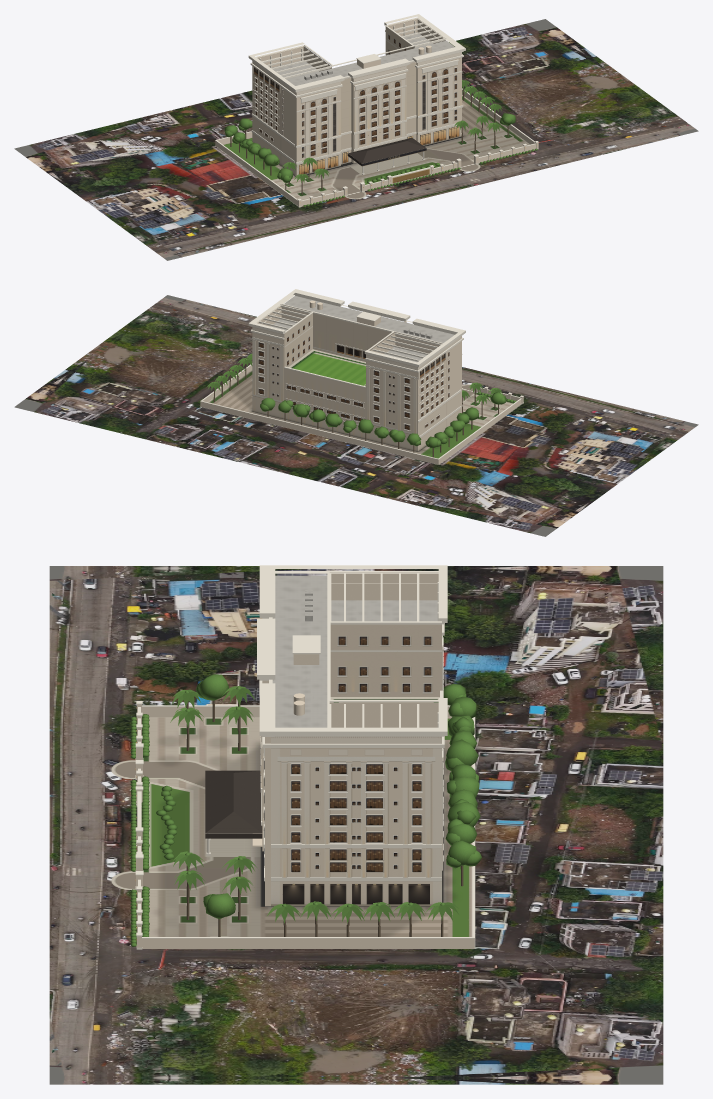
File: celestia-hall.glb
The picture shows the model from 3 angles, top to bottom: view 1: azimuth 30°, elevation 25°; view 2: azimuth 150°, elevation 25°; view 3: azimuth 270°, elevation 25°; orthographic projection. The views are drawn at different scales.
Parts seen in each view (by area): view 1: ground, front, trim, plain, west, foliage, roof, metal, trunk, court; view 2: ground, back, hall, trim, plain, foliage, west, roof, terrace, court, trunk; view 3: ground, east, trim, foliage, plain, roof, court, metal, trunk.
Part boxes in pixels (bbox=[...]): ground: bbox=[14, 19, 698, 260]; front: bbox=[296, 52, 461, 175]; trim: bbox=[215, 14, 538, 207]; plain: bbox=[215, 18, 538, 206]; west: bbox=[252, 61, 294, 175]; foliage: bbox=[224, 79, 537, 207]; roof: bbox=[272, 32, 454, 85]; metal: bbox=[347, 138, 425, 165]; trunk: bbox=[230, 87, 508, 194]; court: bbox=[385, 27, 414, 55]; ground: bbox=[14, 295, 698, 536]; back: bbox=[252, 327, 417, 451]; hall: bbox=[284, 312, 394, 438]; trim: bbox=[200, 289, 523, 459]; plain: bbox=[200, 300, 523, 464]; foliage: bbox=[206, 354, 516, 447]; west: bbox=[418, 337, 460, 451]; roof: bbox=[270, 296, 454, 362]; terrace: bbox=[288, 349, 365, 386]; court: bbox=[284, 313, 312, 367]; trunk: bbox=[213, 364, 498, 457]; ground: bbox=[49, 566, 663, 1084]; east: bbox=[271, 736, 441, 906]; trim: bbox=[135, 565, 474, 949]; foliage: bbox=[130, 674, 481, 946]; plain: bbox=[136, 572, 474, 948]; roof: bbox=[272, 575, 437, 727]; court: bbox=[330, 623, 441, 696]; metal: bbox=[205, 770, 262, 838]; trunk: bbox=[186, 700, 463, 936].
Size of what is drawn, in the model's own units: 215 by 35.07 by 108.
17 materials, 17 textured.
